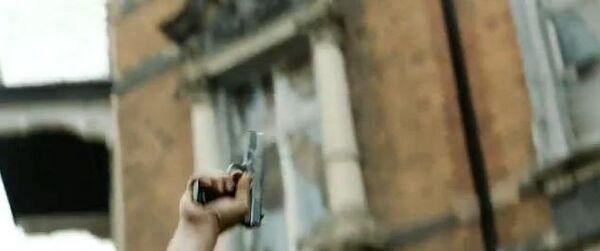Gun: (196, 130, 268, 226)
